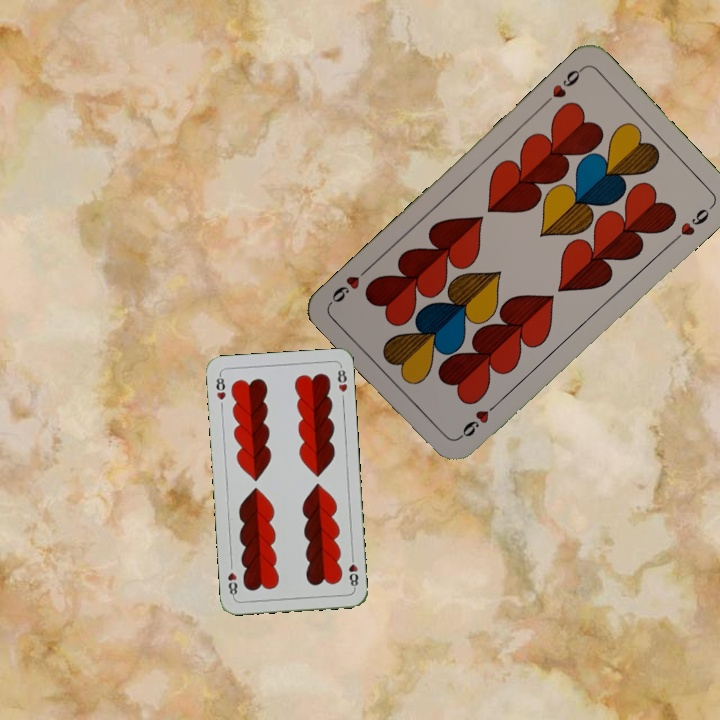H8: (345, 551, 361, 592), (212, 370, 228, 403)
H9: (539, 63, 587, 108), (454, 397, 502, 442)
